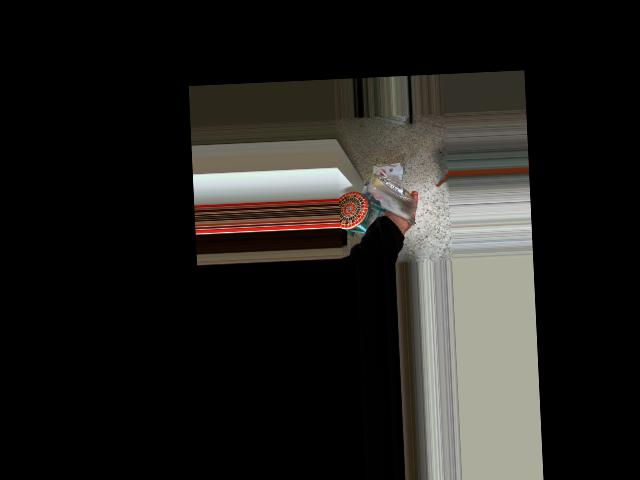cheese: (344, 156, 423, 232)
